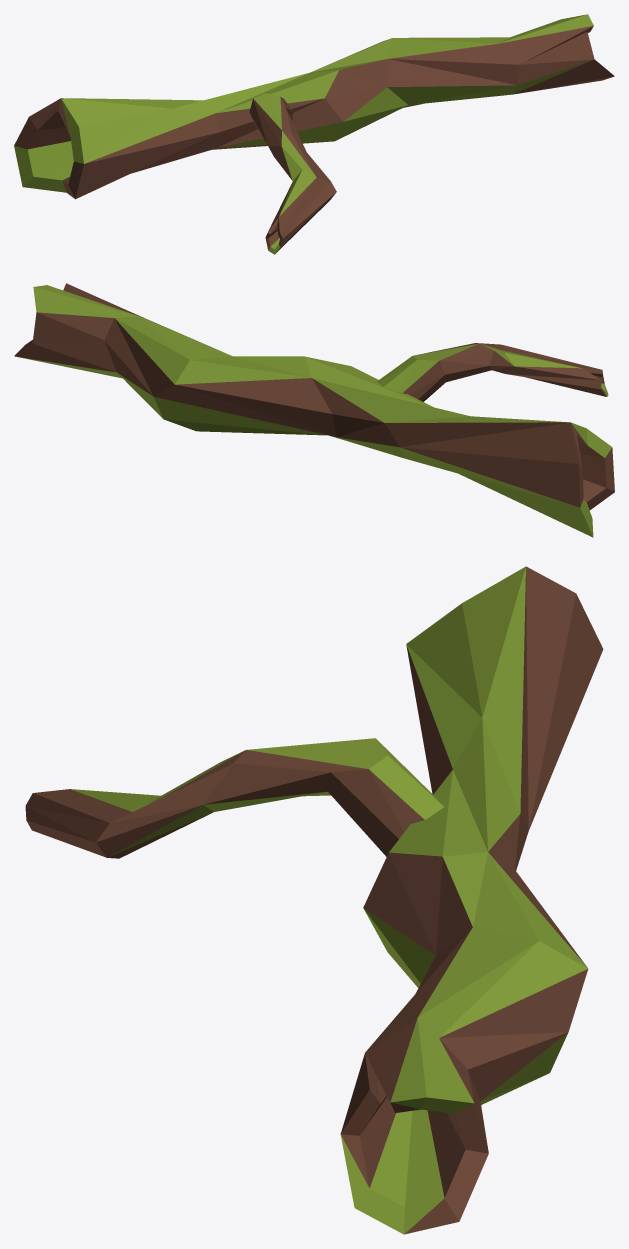
The model's file is Wooden Log_2_Moss.fbx.
3 views of the same model, one above another, from view 1: azimuth 30°, elevation 25°; view 2: azimuth 150°, elevation 25°; view 3: azimuth 270°, elevation 25° (orthographic). The views are drawn at different scales.
Parts seen in each view (by area): view 1: Wooden Log_2_Moss; view 2: Wooden Log_2_Moss; view 3: Wooden Log_2_Moss.
Boxes of the visible parts, <box> form: Wooden Log_2_Moss: <box>14,14,614,254</box>; Wooden Log_2_Moss: <box>14,283,614,537</box>; Wooden Log_2_Moss: <box>25,566,603,1234</box>.
Bounding box in the file's own units: 3.52 × 0.5675 × 1.63.
